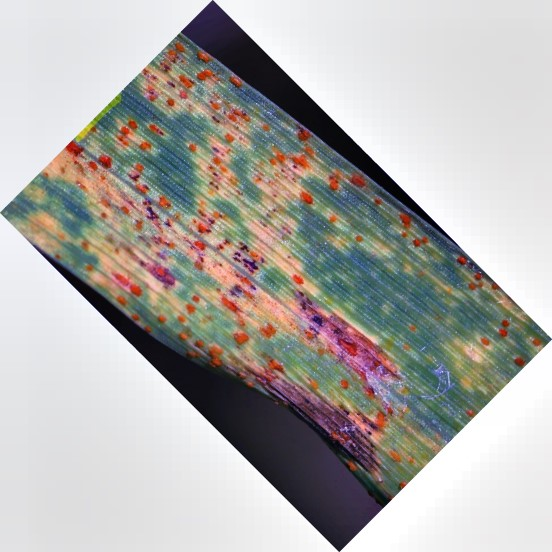Leaf Rust: (61, 116, 448, 432)
